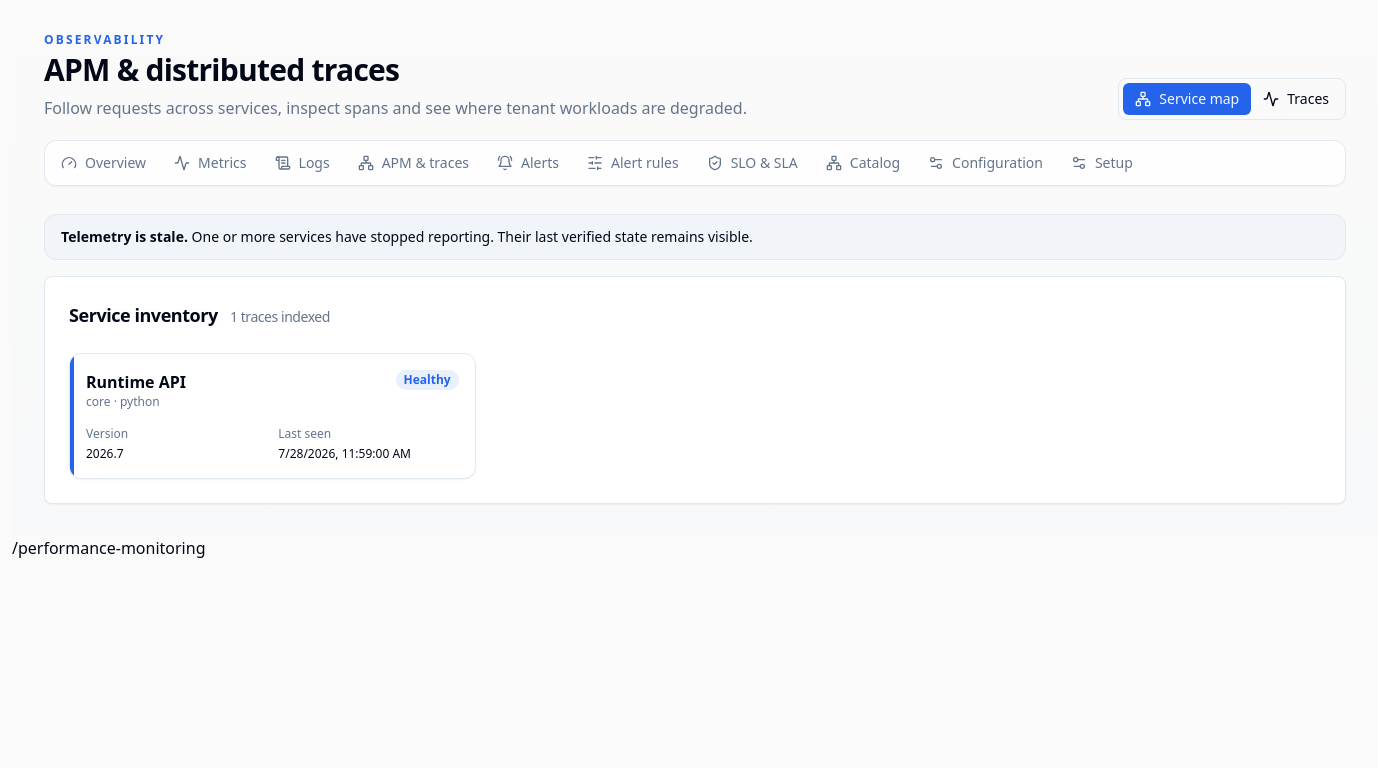
Test case: performance monitoring page coverage › keeps Trace Explorer fail-closed when spans cannot load
Click the button "Traces".
click(1296, 99)  # box [1251,83,1341,115]
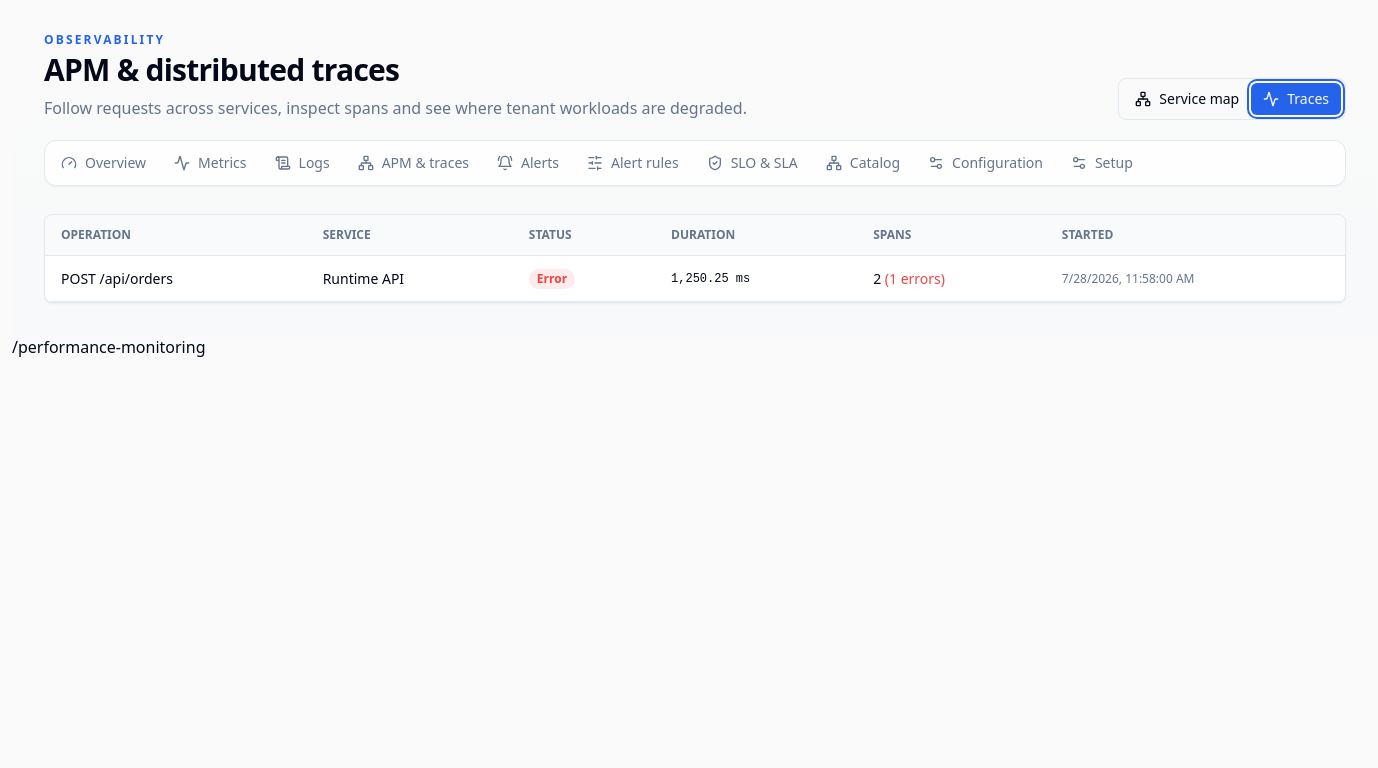
Click the row that starts with "POST /api/orders".
click(695, 278)  # box [45,256,1345,302]
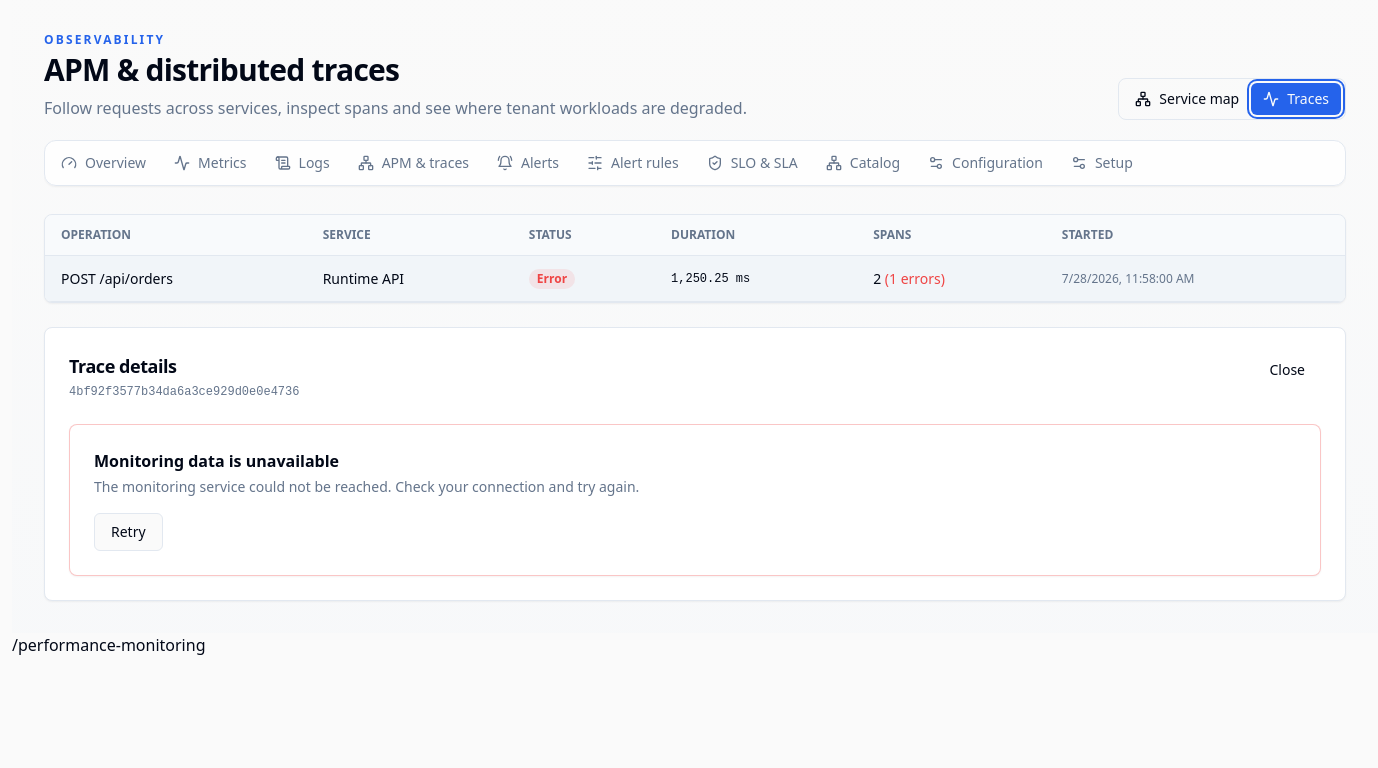
Result: the heading "Trace details" is shown at [69,354,177,378]
Result: the heading "Monitoring data is unavailable" is shown at [94,450,339,472]
Result: the button "Retry" is shown at [94,513,163,551]
